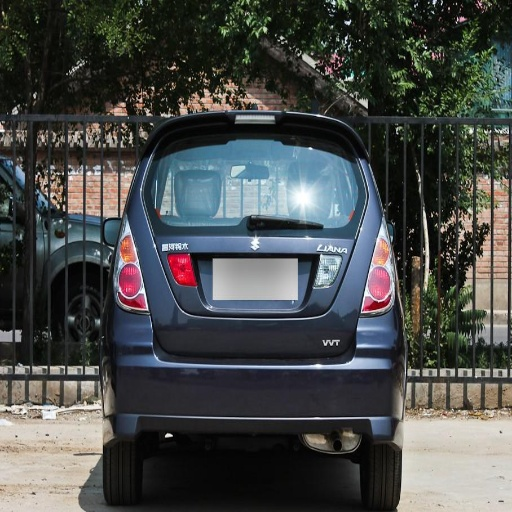back_bumper: (105, 284, 400, 449)
tailgate: (130, 206, 357, 350)
trunk: (307, 222, 370, 359)
